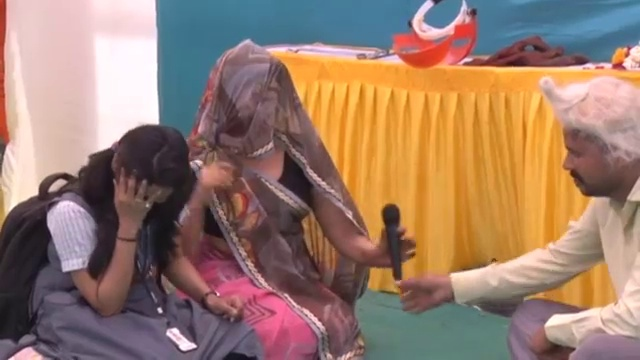helmet_off: (541, 74, 640, 204), (209, 43, 301, 162), (101, 118, 193, 228)
person: (169, 41, 416, 359), (398, 74, 640, 359), (0, 122, 263, 360)
